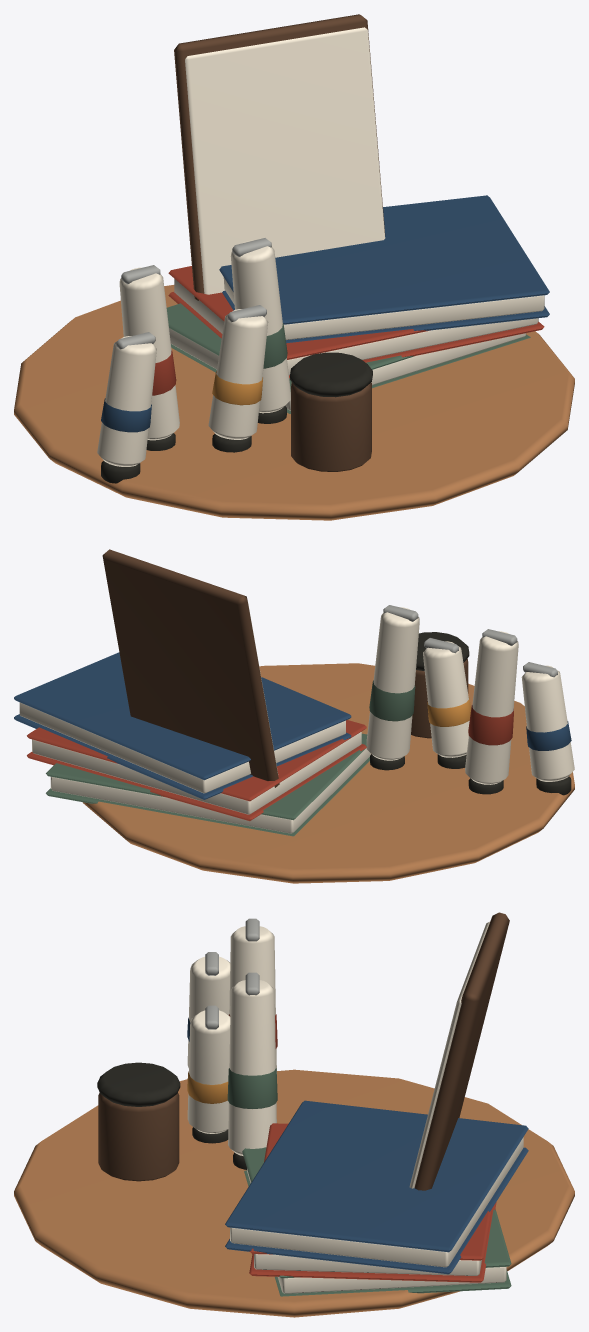
The model's file is brands.glb.
The picture shows the model from 3 angles, top to bottom: view 1: azimuth 30°, elevation 25°; view 2: azimuth 150°, elevation 25°; view 3: azimuth 270°, elevation 25°; orthographic projection. The views are drawn at different scales.
Visible parts, largest first — view 1: Cone, Cube.010, Cube.008, Cone.013, Cube.009, Cone.002, Cone.008, Cube.006, Cone.005, Cone.011, Cube.003, Cone.014 (+10 smaller); view 2: Cone, Cube.009, Cube.008, Cone.005, Cone.011, Cube.006, Cube.003, Cube, Cone.002, Cone.008, Cube.002, Cube.005 (+10 smaller); view 3: Cone, Cube.008, Cube.009, Cone.013, Cone.011, Cube.006, Cone.008, Cone.014, Cube.007, Cube, Cone.005, Cube.003 (+8 smaller).
Boxes of the visible parts, bbox=[...] form: Cone: bbox=[14, 285, 574, 520]; Cube.010: bbox=[185, 27, 385, 294]; Cube.008: bbox=[219, 195, 549, 324]; Cone.013: bbox=[291, 382, 371, 471]; Cube.009: bbox=[174, 14, 385, 300]; Cone.002: bbox=[97, 336, 156, 466]; Cone.008: bbox=[208, 309, 268, 439]; Cube.006: bbox=[223, 277, 544, 339]; Cone.005: bbox=[119, 267, 179, 440]; Cone.011: bbox=[230, 240, 290, 413]; Cube.003: bbox=[174, 279, 538, 375]; Cone.014: bbox=[290, 352, 372, 397]; Cone: bbox=[83, 663, 574, 883]; Cube.009: bbox=[102, 549, 279, 787]; Cube.008: bbox=[14, 652, 351, 780]; Cone.005: bbox=[465, 631, 518, 784]; Cone.011: bbox=[366, 607, 419, 760]; Cube.006: bbox=[19, 702, 345, 793]; Cube.003: bbox=[32, 732, 361, 814]; Cube: bbox=[50, 748, 370, 833]; Cone.002: bbox=[521, 665, 574, 781]; Cone.008: bbox=[423, 641, 469, 757]; Cube.002: bbox=[46, 733, 367, 820]; Cube.005: bbox=[27, 720, 366, 801]; Cone: bbox=[14, 1069, 574, 1317]; Cube.008: bbox=[225, 1100, 528, 1252]; Cube.009: bbox=[414, 912, 509, 1190]; Cone.013: bbox=[98, 1092, 179, 1181]; Cone.011: bbox=[228, 980, 276, 1155]; Cube.006: bbox=[230, 1137, 523, 1267]; Cone.008: bbox=[187, 1010, 230, 1133]; Cone.014: bbox=[97, 1062, 180, 1106]; Cube.007: bbox=[225, 1147, 528, 1274]; Cube: bbox=[247, 1169, 506, 1293]; Cone.005: bbox=[229, 926, 276, 1073]; Cube.003: bbox=[254, 1254, 481, 1275].
Size of the model in its own units: 2.31 by 1.22 by 2.18.
